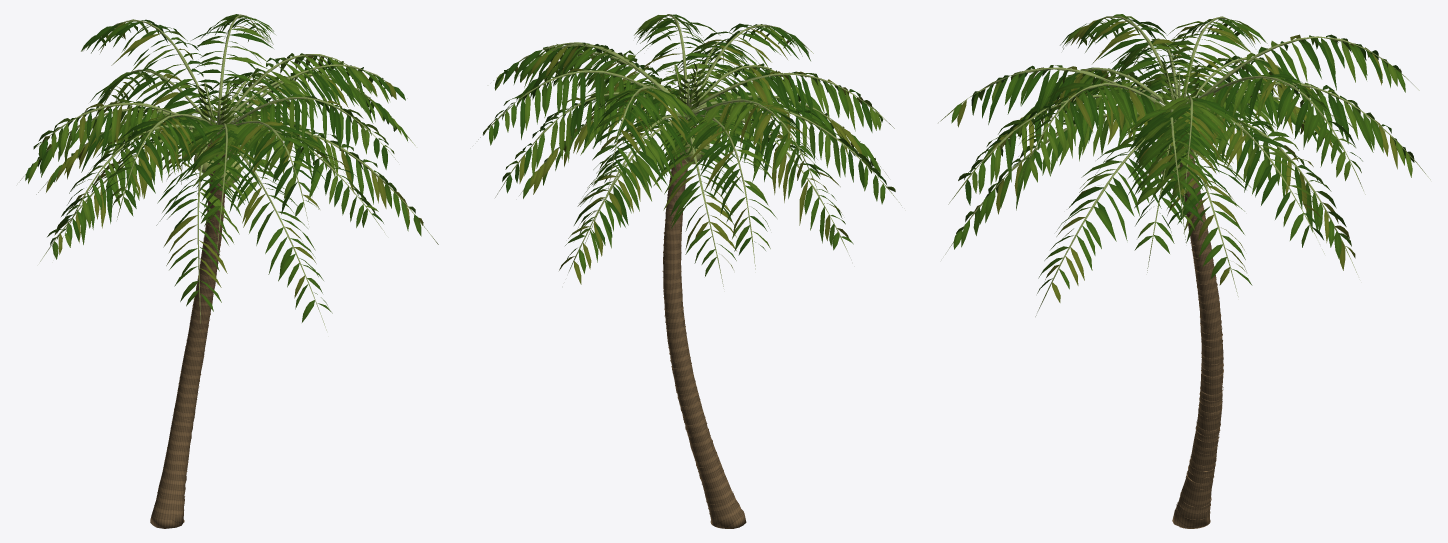
Rendered from Coconut_LOD1.glb.
3 views of the same model, side by side, from view 1: azimuth 30°, elevation 25°; view 2: azimuth 150°, elevation 25°; view 3: azimuth 270°, elevation 25° (orthographic). The views are drawn at different scales.
Parts seen in each view (by area): view 1: Coconut_Individual_Pinnae.005, Coconut_Trunk_GrowthScars.006, Coconut_Rachis_Crownshaft.006; view 2: Coconut_Individual_Pinnae.005, Coconut_Trunk_GrowthScars.006, Coconut_Rachis_Crownshaft.006; view 3: Coconut_Individual_Pinnae.005, Coconut_Trunk_GrowthScars.006, Coconut_Rachis_Crownshaft.006.
Boxes of the visible parts, <box> form: Coconut_Individual_Pinnae.005: <box>25,14,423,322</box>; Coconut_Trunk_GrowthScars.006: <box>150,141,230,528</box>; Coconut_Rachis_Crownshaft.006: <box>20,14,438,330</box>; Coconut_Individual_Pinnae.005: <box>483,14,895,284</box>; Coconut_Trunk_GrowthScars.006: <box>662,124,746,528</box>; Coconut_Rachis_Crownshaft.006: <box>478,14,901,286</box>; Coconut_Individual_Pinnae.005: <box>951,14,1414,302</box>; Coconut_Trunk_GrowthScars.006: <box>1172,153,1223,528</box>; Coconut_Rachis_Crownshaft.006: <box>938,16,1430,316</box>.
Bounding box in the file's own units: 9.3 × 10.31 × 9.21.
4 materials, 2 textured.
